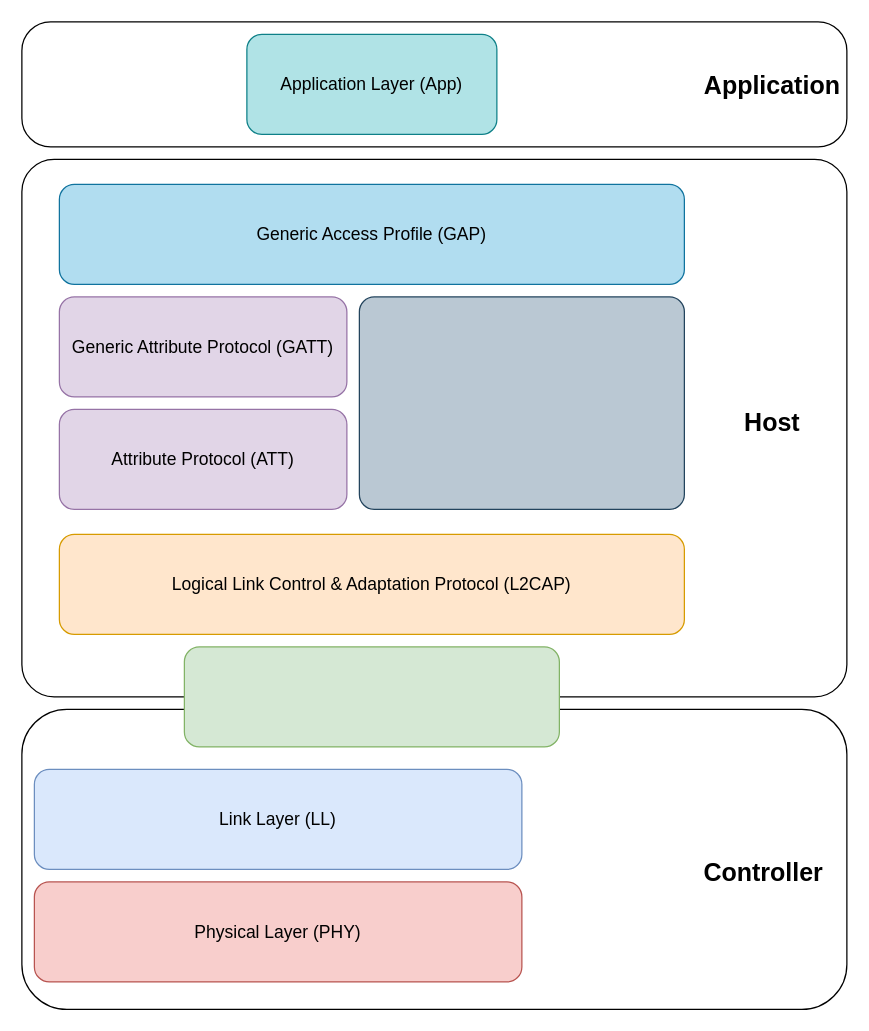
The diagram is 869 pixels wide and 1031 high, and some of its shapes have lost their labels. The centre of each missing label's shape, as x and y in pixels:
"Host Controller Interface (HCI)" goes at (371,696).
"Security Manager (SMP)" goes at (521,402).
